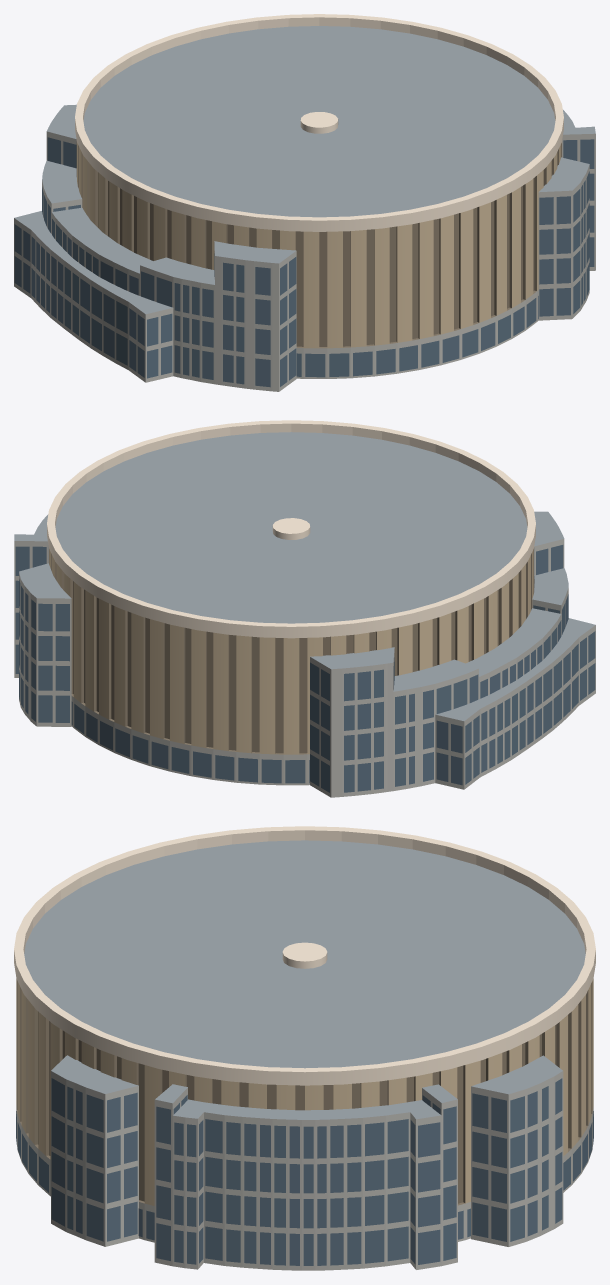
The model's file is nyc-madison-square-garden.glb.
3 views of the same model, one above another, from view 1: azimuth 30°, elevation 25°; view 2: azimuth 150°, elevation 25°; view 3: azimuth 270°, elevation 25° (orthographic). The views are drawn at different scales.
Visible parts, largest first — view 1: Madison Square Garden; view 2: Madison Square Garden; view 3: Madison Square Garden.
Part boxes in pixels (bbox=[...]): Madison Square Garden: bbox=[14, 14, 595, 391]; Madison Square Garden: bbox=[14, 420, 595, 797]; Madison Square Garden: bbox=[14, 826, 595, 1270].
Size of the model in its own units: 145 by 46.5 by 129.
